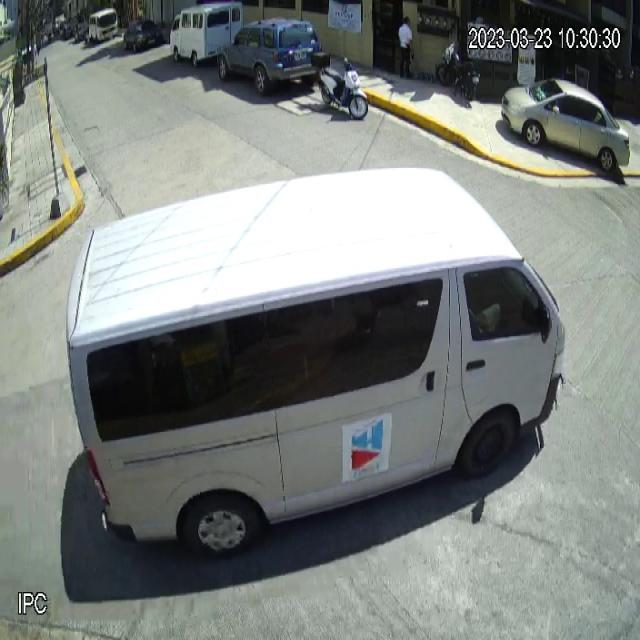Car: (500, 80, 630, 172), (217, 18, 323, 96)
Motorcycle: (310, 50, 369, 119)
Van: (65, 166, 570, 563), (170, 3, 242, 68)
